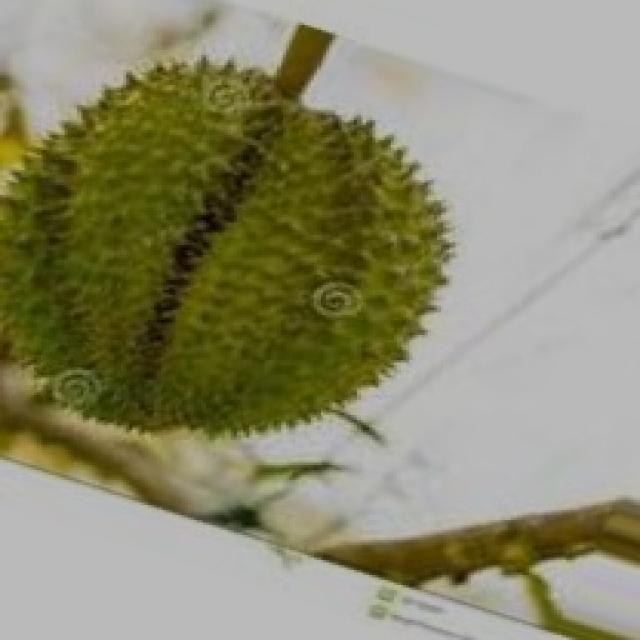fruit: (120, 70, 505, 492)
